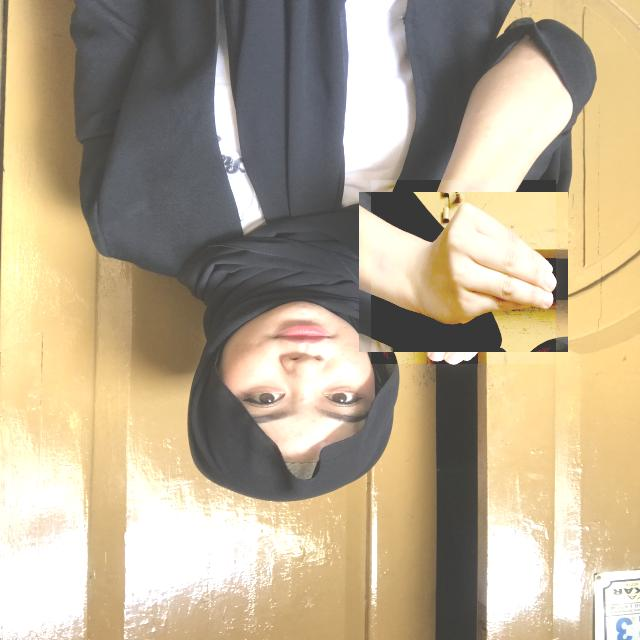kapan: (371, 180, 556, 364)
